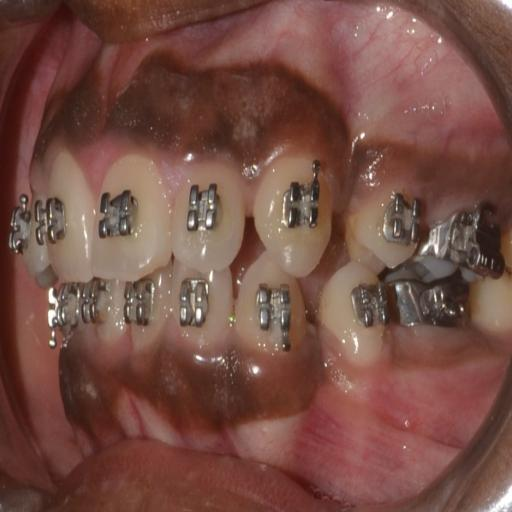correct_brace: (345, 163, 422, 270), (321, 268, 393, 368), (251, 268, 299, 360), (371, 182, 420, 261), (280, 165, 324, 246), (172, 272, 220, 344), (342, 280, 388, 355), (181, 182, 228, 247), (100, 184, 142, 248)
incorrect_brace: (171, 162, 242, 270), (168, 266, 235, 368)
